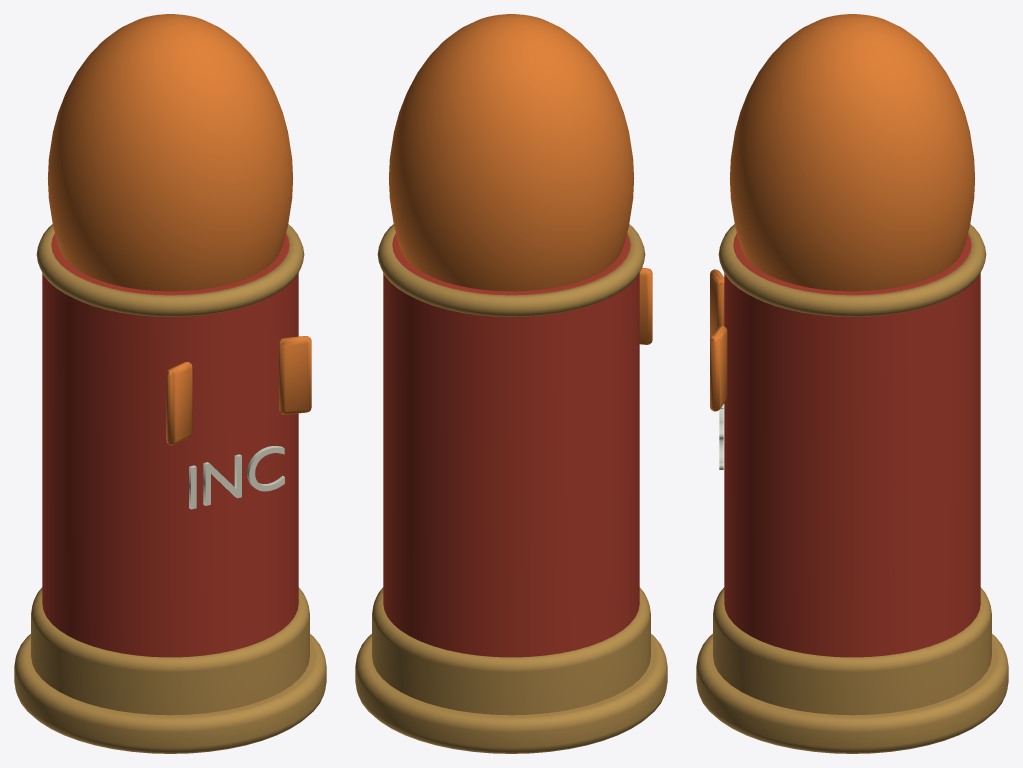
Rendered from fire_round.glb.
3 renders of one model, left to right at view 1: azimuth 30°, elevation 25°; view 2: azimuth 150°, elevation 25°; view 3: azimuth 270°, elevation 25°, orthographic.
Parts seen in each view (by area): view 1: FireRoundRedCase, FireRoundNose, FireRoundBrassBase, FireRoundCaseRim, FireRoundCaseCrimp, FireRoundFlameMark.001, FireRoundFlameMark, FireRoundMark; view 2: FireRoundRedCase, FireRoundNose, FireRoundBrassBase, FireRoundCaseRim, FireRoundCaseCrimp, FireRoundFlameMark; view 3: FireRoundRedCase, FireRoundNose, FireRoundBrassBase, FireRoundCaseRim, FireRoundCaseCrimp, FireRoundFlameMark.001, FireRoundFlameMark.
Boxes of the visible parts, bbox=[...] form: FireRoundRedCase: bbox=[42, 233, 298, 657]; FireRoundNose: bbox=[47, 14, 293, 291]; FireRoundBrassBase: bbox=[31, 587, 309, 715]; FireRoundCaseRim: bbox=[14, 634, 326, 753]; FireRoundCaseCrimp: bbox=[36, 224, 304, 316]; FireRoundFlameMark.001: bbox=[279, 336, 311, 414]; FireRoundFlameMark: bbox=[166, 362, 192, 445]; FireRoundMark: bbox=[189, 446, 284, 509]; FireRoundRedCase: bbox=[383, 233, 639, 657]; FireRoundNose: bbox=[388, 14, 634, 291]; FireRoundBrassBase: bbox=[372, 587, 650, 715]; FireRoundCaseRim: bbox=[355, 634, 667, 753]; FireRoundCaseCrimp: bbox=[377, 224, 645, 316]; FireRoundFlameMark: bbox=[639, 267, 652, 344]; FireRoundRedCase: bbox=[724, 233, 980, 657]; FireRoundNose: bbox=[729, 14, 975, 291]; FireRoundBrassBase: bbox=[713, 587, 991, 715]; FireRoundCaseRim: bbox=[696, 634, 1008, 753]; FireRoundCaseCrimp: bbox=[718, 224, 986, 316]; FireRoundFlameMark.001: bbox=[710, 326, 727, 411]; FireRoundFlameMark: bbox=[710, 269, 724, 338].
Bounding box in the file's own units: 0.056 × 0.133 × 0.056.
